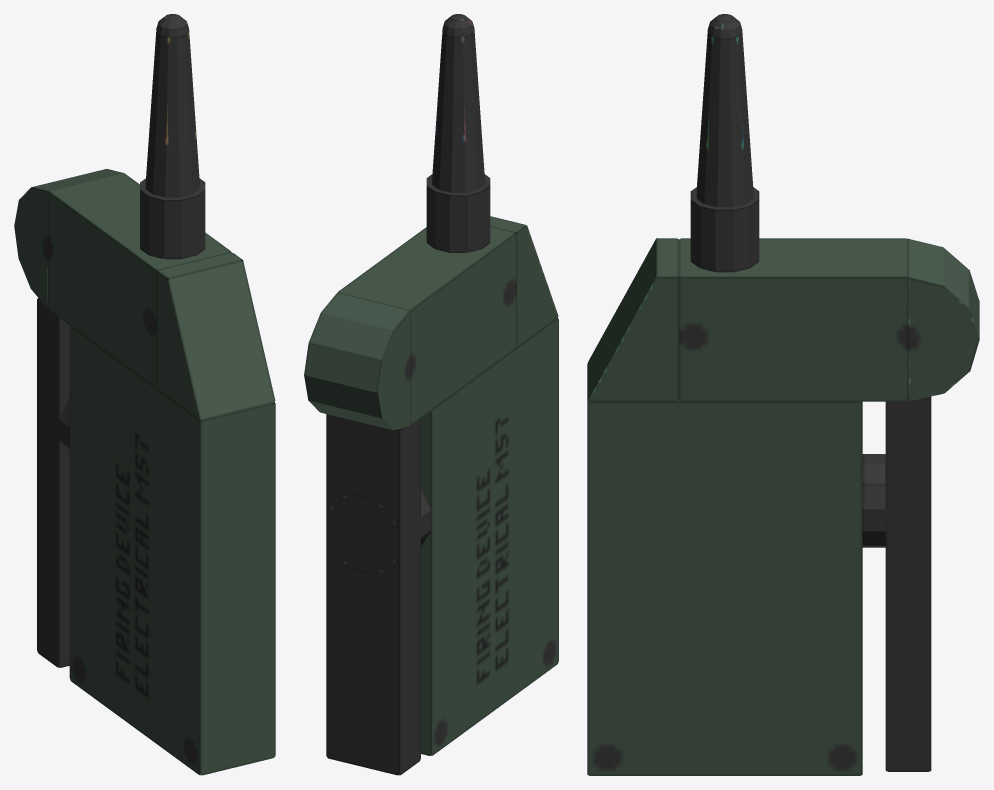
3 views of the same model, side by side, from view 1: azimuth 30°, elevation 25°; view 2: azimuth 150°, elevation 25°; view 3: azimuth 270°, elevation 25° (orthographic). The views are drawn at different scales.
Visible parts, largest first — view 1: mesh, cylinder, sphere; view 2: mesh, cylinder, sphere; view 3: mesh, cylinder, sphere.
Boxes of the visible parts, bbox=[...] form: mesh: bbox=[37, 173, 275, 775]; cylinder: bbox=[14, 30, 205, 456]; sphere: bbox=[156, 14, 188, 37]; mesh: bbox=[326, 216, 558, 775]; cylinder: bbox=[304, 29, 490, 574]; sphere: bbox=[442, 14, 474, 36]; mesh: bbox=[587, 238, 931, 775]; cylinder: bbox=[690, 29, 979, 547]; sphere: bbox=[708, 14, 742, 38].
Size of the model in its own units: 0.25 by 2.23 by 1.07.
1 material, 1 textured.
